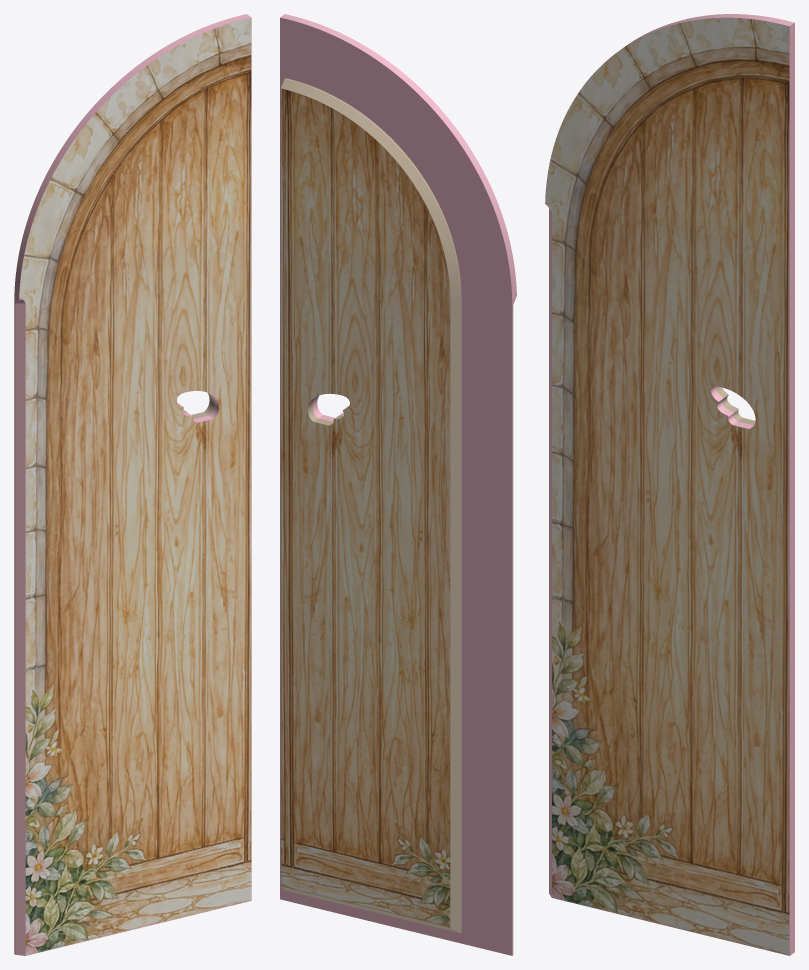
File: p004-door-leaf.glb
3 renders of one model, left to right at view 1: azimuth 30°, elevation 25°; view 2: azimuth 150°, elevation 25°; view 3: azimuth 330°, elevation 25°, orthographic. The views are drawn at different scales.
Visible parts, largest first — view 1: p004-door-leaf; view 2: p004-door-leaf; view 3: p004-door-leaf.
Boxes of the visible parts, x1=… form: p004-door-leaf: x1=14, y1=14, x2=251, y2=955; p004-door-leaf: x1=280, y1=14, x2=516, y2=955; p004-door-leaf: x1=545, y1=14, x2=794, y2=955.
Bounding box in the file's own units: 252 × 914 × 18.
Materials: 4 (2 with a texture image).
